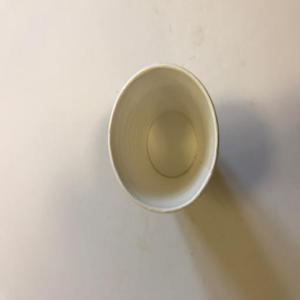Cup: (108, 64, 220, 215)
